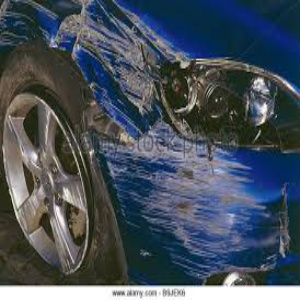bumper_scratch: (104, 160, 299, 282)
